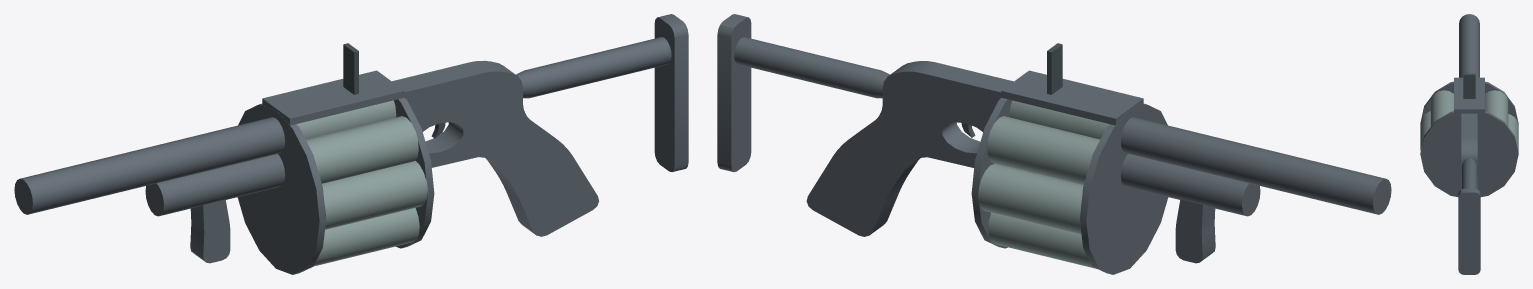
The model's file is grenade launcher.fbx.
3 views of the same model, side by side, from view 1: azimuth 30°, elevation 25°; view 2: azimuth 150°, elevation 25°; view 3: azimuth 270°, elevation 25° (orthographic). The views are drawn at different scales.
Parts seen in each view (by area): view 1: grenade launcher; view 2: grenade launcher; view 3: grenade launcher.
Part boxes in pixels (<box>): grenade launcher: <box>14,14,688,274</box>; grenade launcher: <box>717,14,1391,274</box>; grenade launcher: <box>1420,14,1518,274</box>.
Bounding box in the file's own units: 2.02 × 0.6744 × 0.467.
